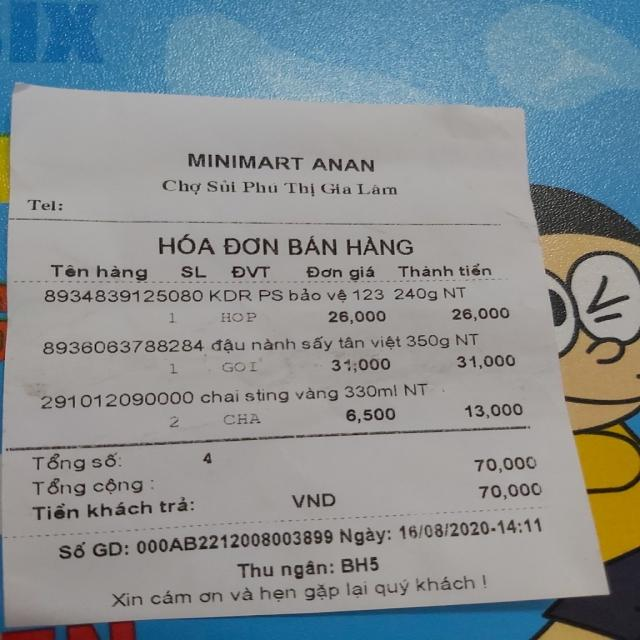Date: (397, 518, 496, 542)
Store_Name: (178, 148, 385, 178)
amount_number: (468, 456, 542, 472)
label_total: (31, 477, 147, 496)
